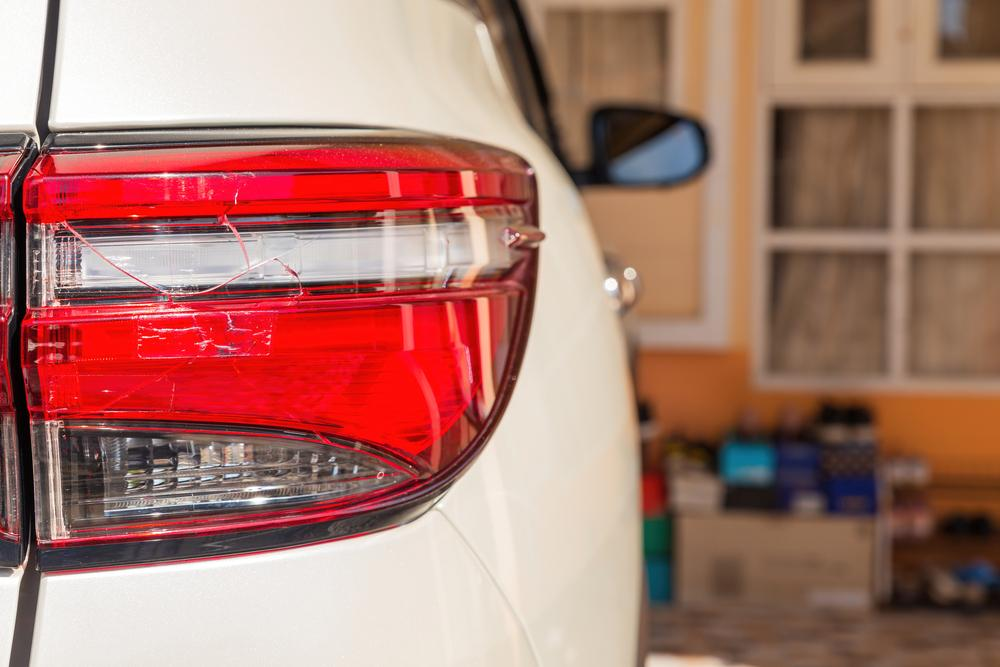lamp broken: (20, 135, 537, 546)
